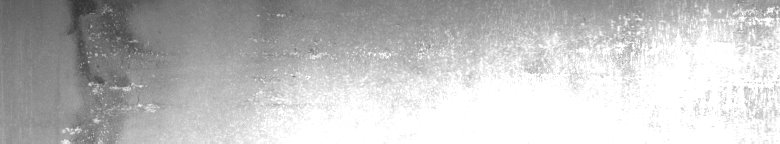hc: (62, 4, 163, 136)
